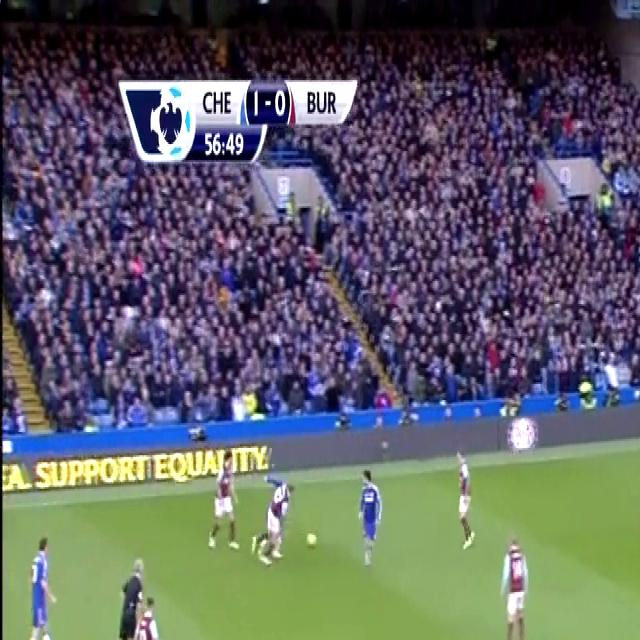ball: (302, 526, 322, 560)
soccer-player: (18, 524, 62, 640), (254, 461, 299, 568), (498, 528, 539, 640), (206, 438, 243, 557), (104, 546, 149, 640), (351, 460, 386, 571), (448, 446, 478, 558), (122, 599, 176, 640)
